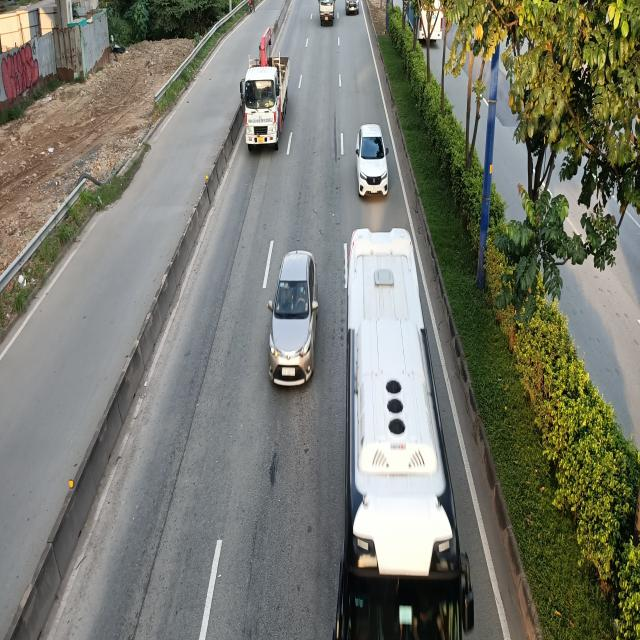car: (267, 249, 320, 387), (354, 122, 388, 196)
coach: (334, 225, 477, 638)
truck: (241, 27, 292, 152)
